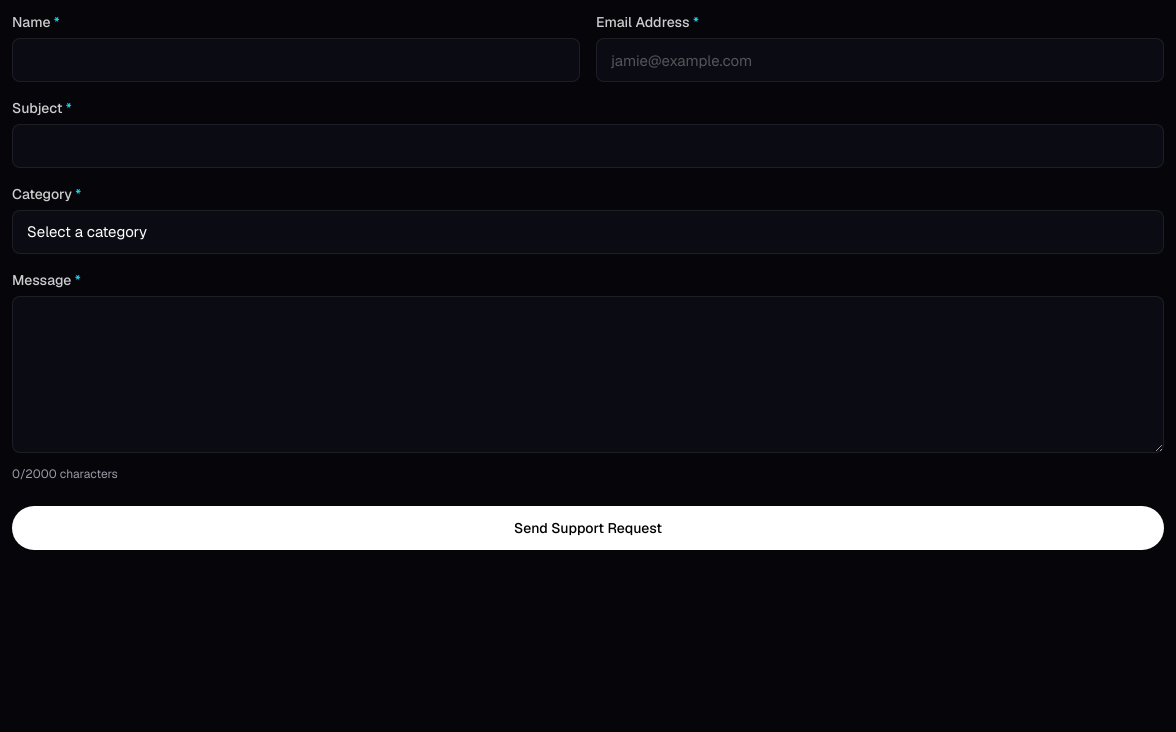
Test: ContactSupportForm — validation › shows a live character counter for the message field
The width and height of the screenshot is (1176, 732).
Expected: the text "0/2000 characters" is shown, [12, 466, 118, 482]
In the text box labelled "Message": {"x": 588, "y": 374} [12, 296, 1164, 453], type "hello"
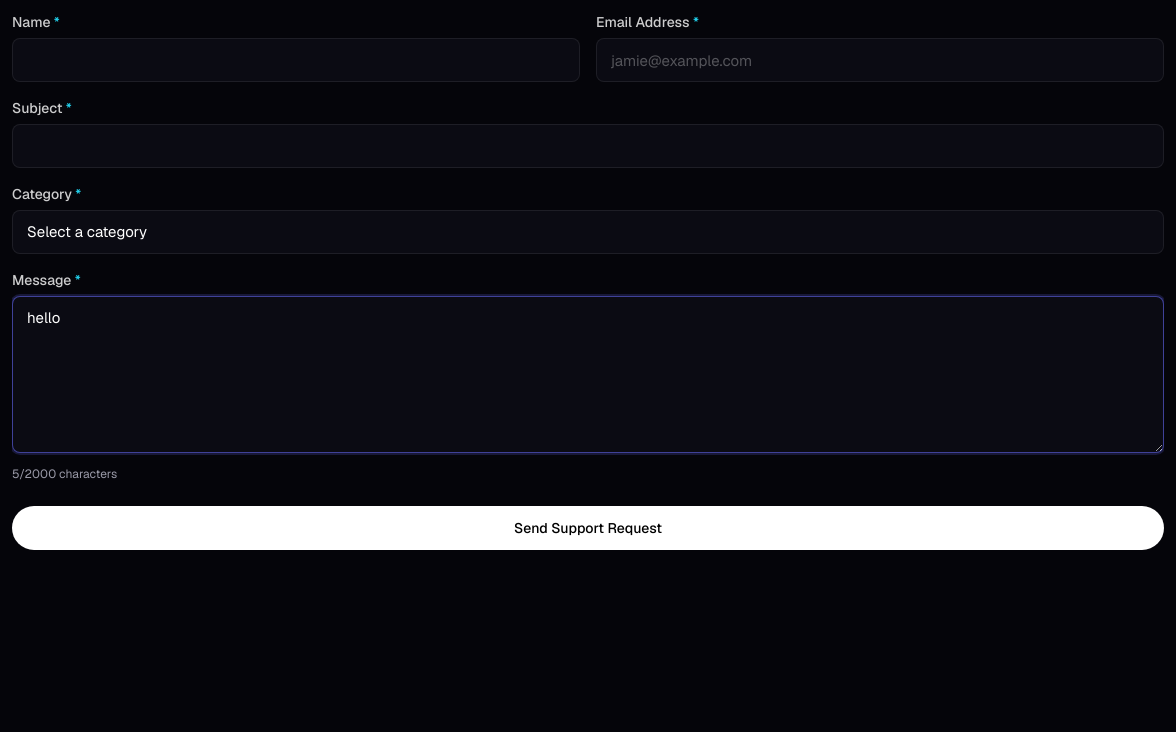
Now the text "5/2000 characters" is shown, box [12, 466, 117, 482]
